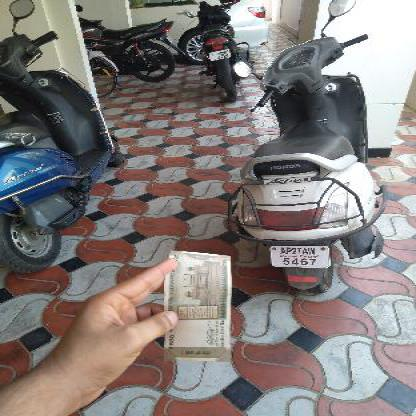New500Back: (169, 250, 226, 356)
